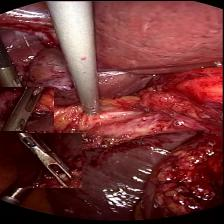Grasper: (17, 132, 82, 187), (0, 86, 54, 130)
Irrigator: (75, 91, 103, 115)
